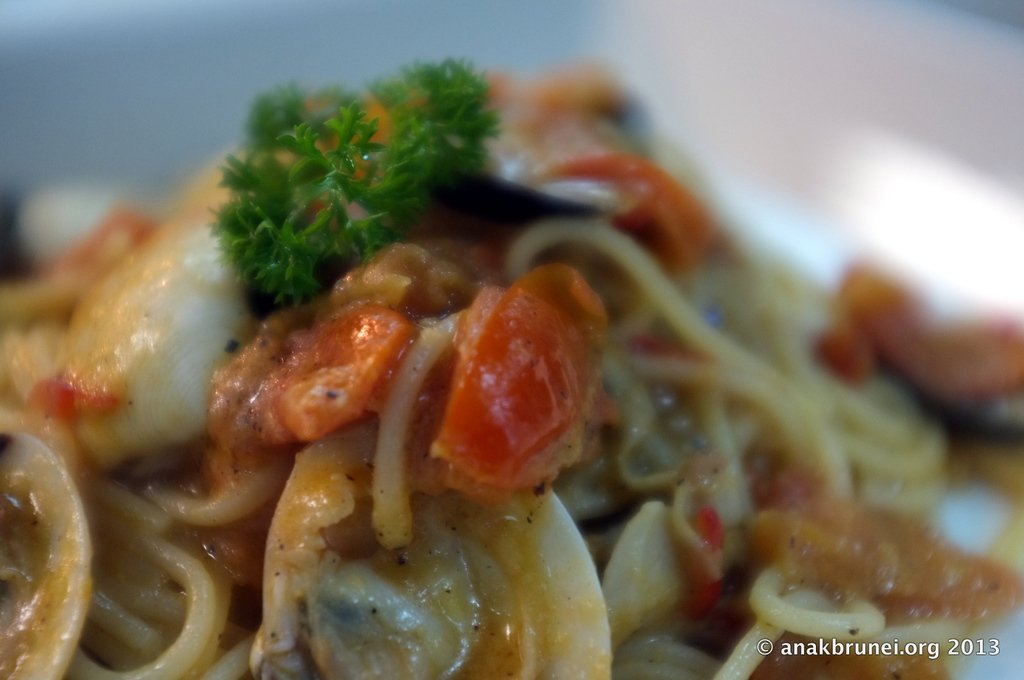pasta: (0, 41, 871, 680)
